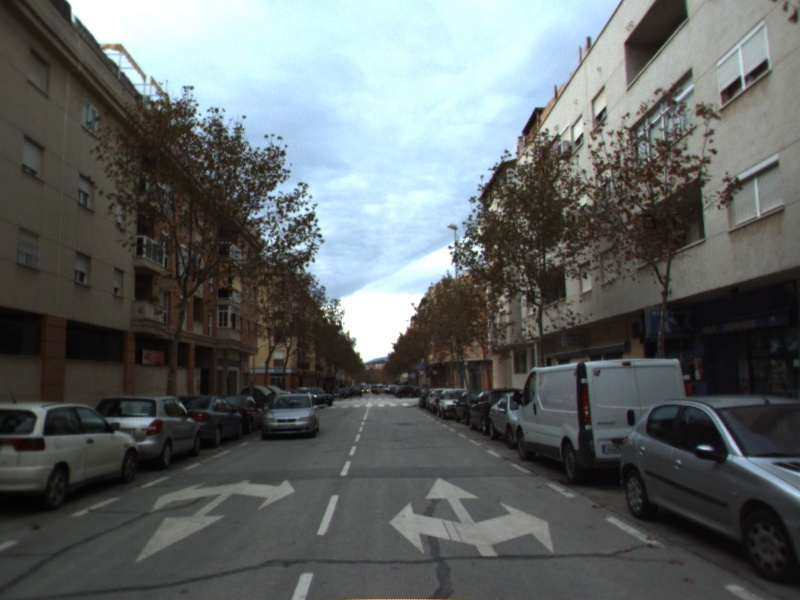STRAIGHT_LEFT_RIGHT: (387, 475, 556, 558)
